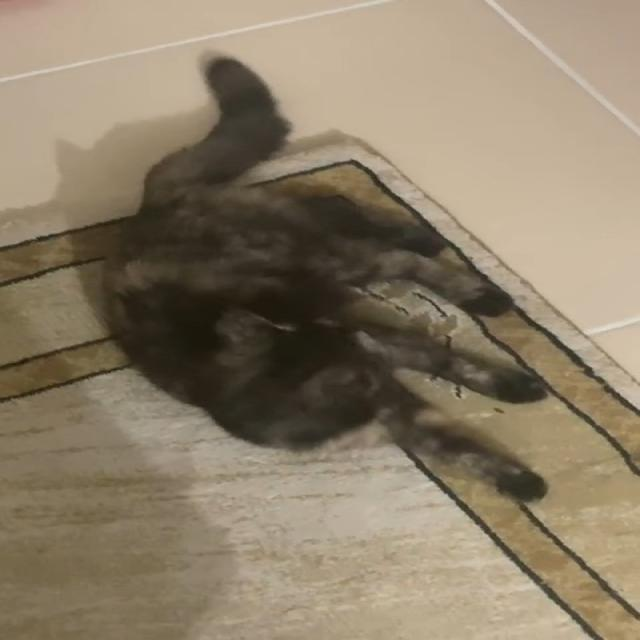authorized: (100, 50, 552, 504)
